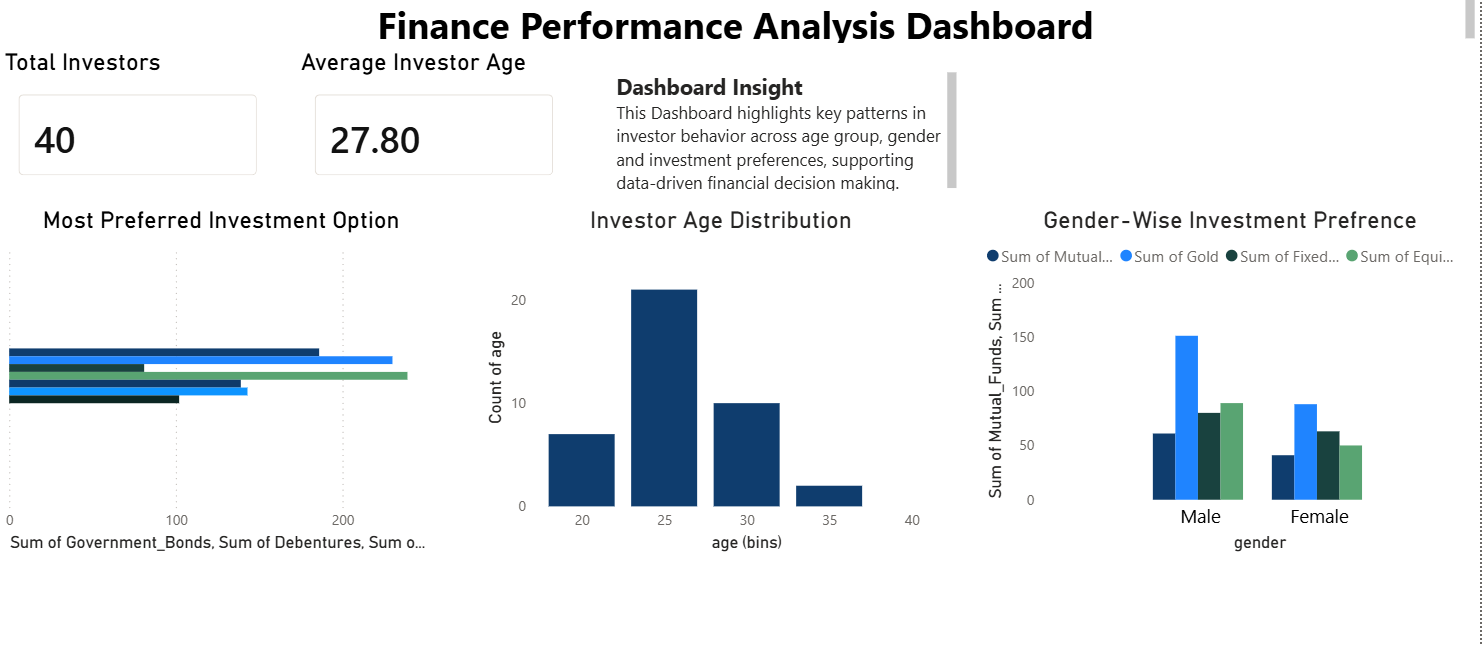

The dashboard page shown, as its layout file describes it:
{"tool":"powerbi","page":{"name":"Page 1","canvas":[1280,720],"ordinal":0},"visuals":[{"type":"textbox","box":[0,0,1280,48],"z":5001},{"type":"cardVisual","title":"Total Investors","fields":{"Data":["CountNonNull(Finance_data.age)"]},"box":[0,48,240,144],"z":5002},{"type":"cardVisual","title":"Average Investor Age","fields":{"Data":["Avg(Finance_data.age)"]},"box":[256,48,240,144],"z":5003},{"type":"clusteredBarChart","title":"Most Preferred Investment Option","fields":{"Y":["Sum(Finance_data.Government_Bonds)","Sum(Finance_data.Debentures)","Sum(Finance_data.PPF)","Sum(Finance_data.Gold)","Sum(Finance_data.Equity_Market)","Sum(Finance_data.Fixed_Deposits)","Sum(Finance_data.Mutual_Funds)"]},"box":[0,224,384,480],"z":5004},{"type":"clusteredColumnChart","title":"Investor Age Distribution","fields":{"Category":["Finance_data.age (bins)"],"Y":["CountNonNull(Finance_data.age)"]},"box":[416,224,416,480],"z":5005},{"type":"clusteredColumnChart","title":"Gender-Wise Investment Prefrence","fields":{"Category":["Finance_data.gender"],"Y":["Sum(Finance_data.Mutual_Funds)","Sum(Finance_data.Gold)","Sum(Finance_data.Fixed_Deposits)","Sum(Finance_data.Equity_Market)"]},"box":[848,224,432,480],"z":5006},{"type":"textbox","box":[528,64,304,112],"z":5007}]}

Visuals, with their boxes on the page's 1280x720 design canvas (x1, y1, x2, y2). These are canvas units, not pixel positions in the 1483x646 screenshot, which may show the page scaled, cropped or inside an application window:
textbox: detection(0, 0, 1280, 48)
"Total Investors" cardVisual: detection(0, 48, 240, 192)
"Average Investor Age" cardVisual: detection(256, 48, 496, 192)
"Most Preferred Investment Option" clusteredBarChart: detection(0, 224, 384, 704)
"Investor Age Distribution" clusteredColumnChart: detection(416, 224, 832, 704)
"Gender-Wise Investment Prefrence" clusteredColumnChart: detection(848, 224, 1280, 704)
textbox: detection(528, 64, 832, 176)
